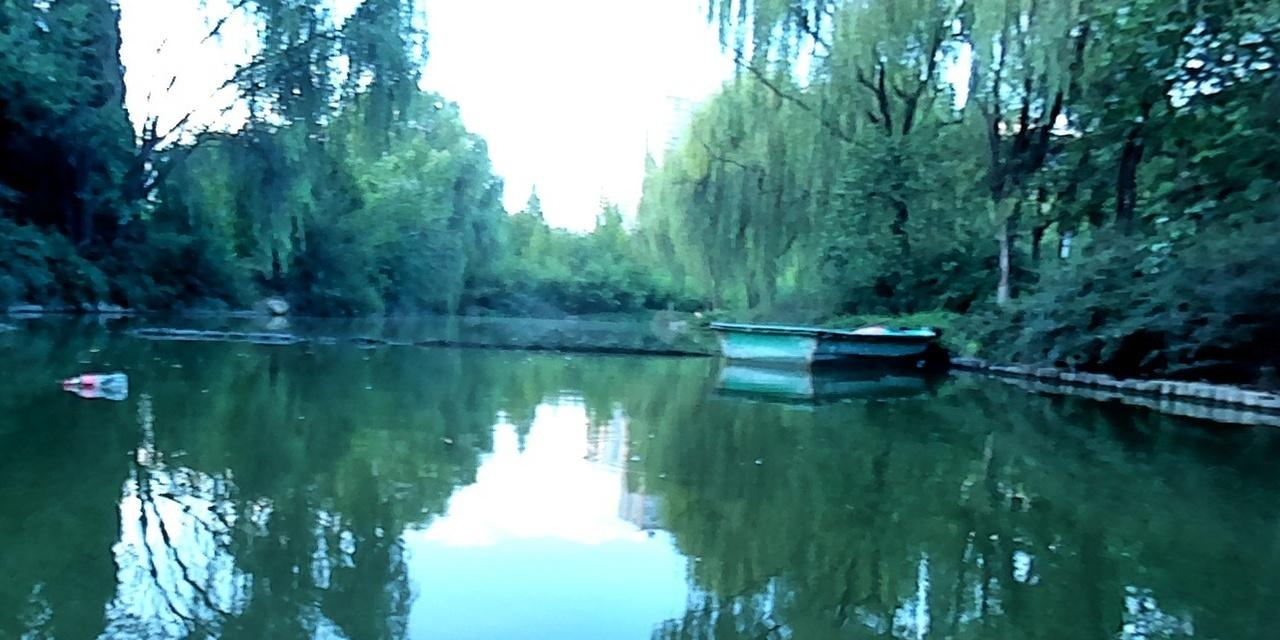bottle: (58, 372, 125, 389)
